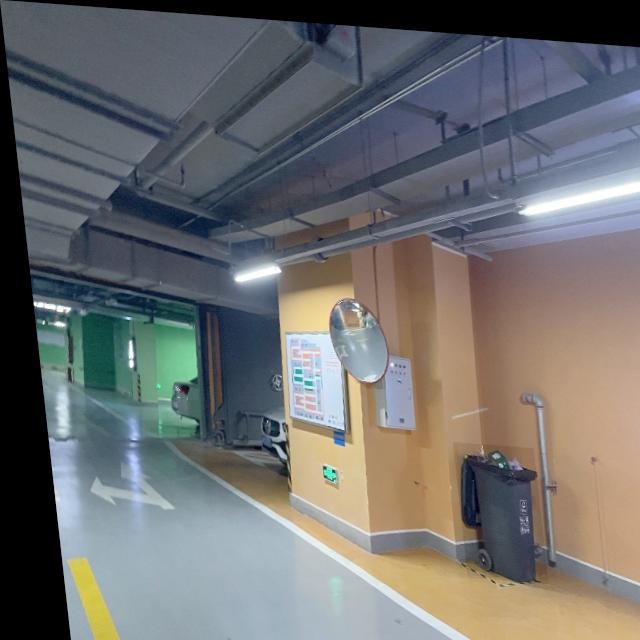overflow: (443, 436, 536, 576)
